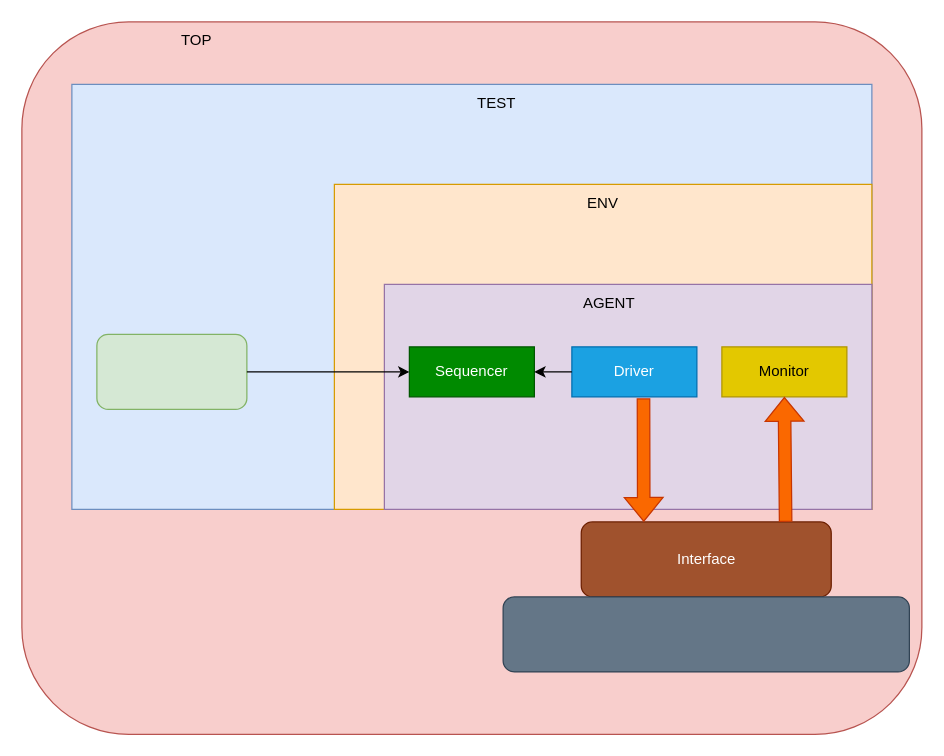
Some shapes in this 944 by 756 pixel diagram are drawn without their labels. Each missing label, with the box of its shape:
DUT: (502, 596, 909, 672)
Sequence: (96, 333, 247, 409)
